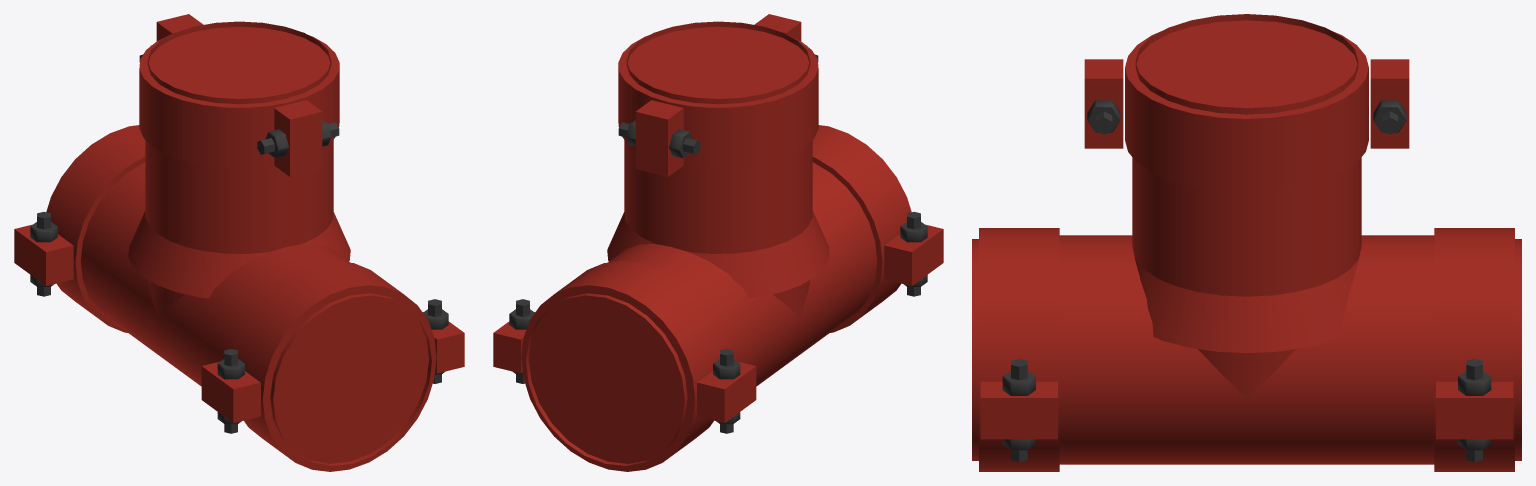
The model's file is Kit_RiserPipe_Tee.fbx.
3 renders of one model, left to right at view 1: azimuth 30°, elevation 25°; view 2: azimuth 150°, elevation 25°; view 3: azimuth 270°, elevation 25°, orthographic. The views are drawn at different scales.
Parts seen in each view (by area): view 1: Kit_RiserPipe_Tee_LOD0; view 2: Kit_RiserPipe_Tee_LOD0; view 3: Kit_RiserPipe_Tee_LOD0.
Part boxes in pixels (x1,y1,x2,y2): Kit_RiserPipe_Tee_LOD0: [14, 14, 464, 471]; Kit_RiserPipe_Tee_LOD0: [493, 14, 943, 471]; Kit_RiserPipe_Tee_LOD0: [972, 14, 1521, 471].
Size of what is drawn, in the model's own units: 0.1853 by 0.2516 by 0.314.
